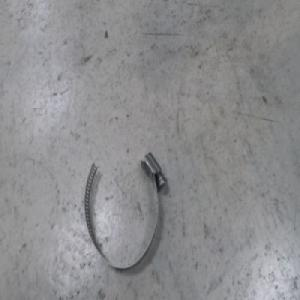AdjustableClamp: (80, 146, 163, 268)
